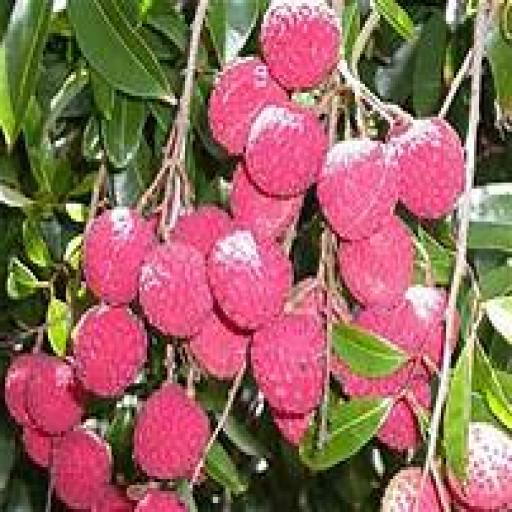lychee: (332, 363, 429, 452), (207, 228, 290, 329), (316, 138, 396, 239), (207, 57, 285, 155), (245, 102, 325, 197), (250, 315, 325, 416), (387, 117, 462, 218), (134, 384, 209, 479), (357, 285, 445, 365), (83, 207, 153, 305), (261, 0, 338, 89), (139, 243, 211, 338), (73, 306, 146, 398), (339, 216, 412, 305), (448, 423, 511, 511), (230, 165, 303, 239), (50, 429, 110, 509), (25, 357, 85, 434), (190, 312, 249, 380), (377, 378, 429, 452), (169, 204, 232, 254), (5, 354, 44, 425), (380, 468, 442, 511), (271, 411, 313, 446), (22, 429, 57, 467), (134, 489, 186, 511), (91, 486, 133, 511)
